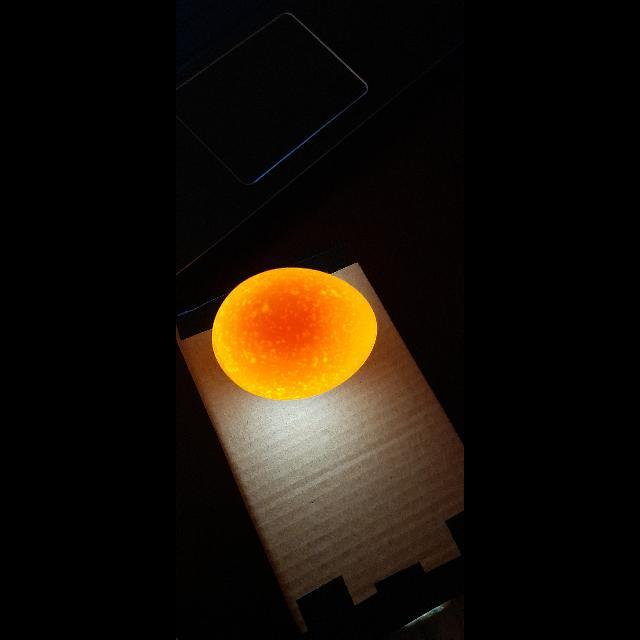Fertile: (208, 278, 388, 392)
